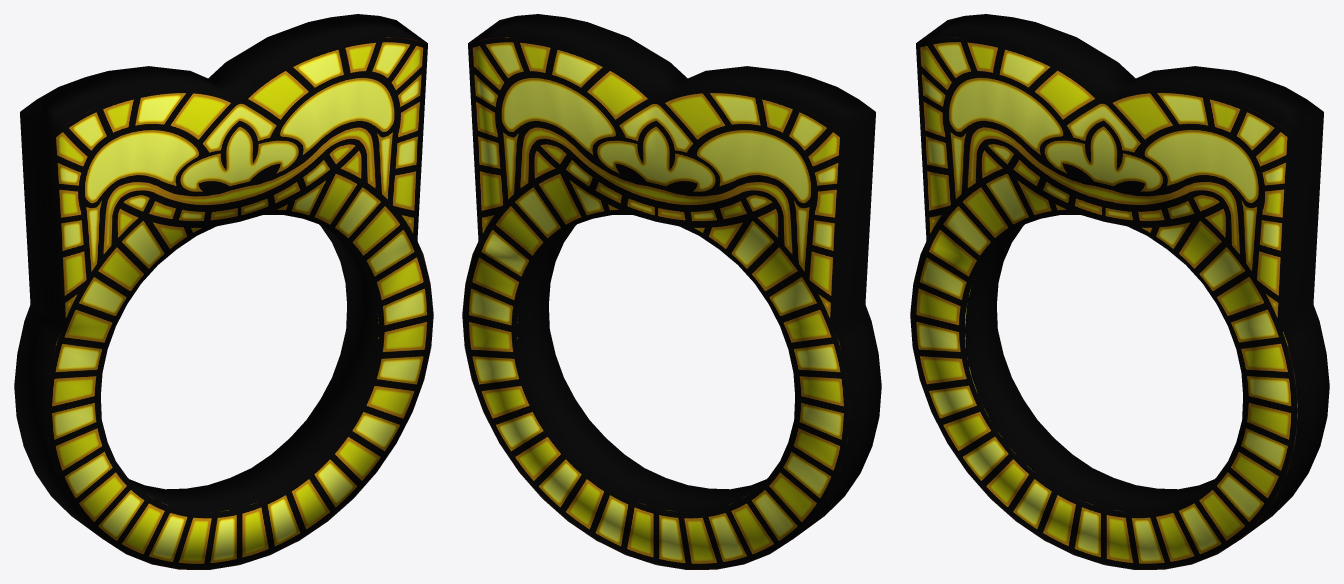
File: BeARPong_Ring_V.02.fbx
3 renders of one model, left to right at view 1: azimuth 30°, elevation 25°; view 2: azimuth 150°, elevation 25°; view 3: azimuth 330°, elevation 25°, orthographic.
Visible parts, largest first — view 1: pTorus6; view 2: pTorus6; view 3: pTorus6.
Boxes of the visible parts, left/top/right/bottom form: pTorus6: left=14, top=14, right=433, bottom=569; pTorus6: left=462, top=14, right=881, bottom=569; pTorus6: left=910, top=14, right=1329, bottom=569.
Size of the model in its own units: 6.02 by 7.35 by 0.8532.
Materials: 1 (1 with a texture image).
